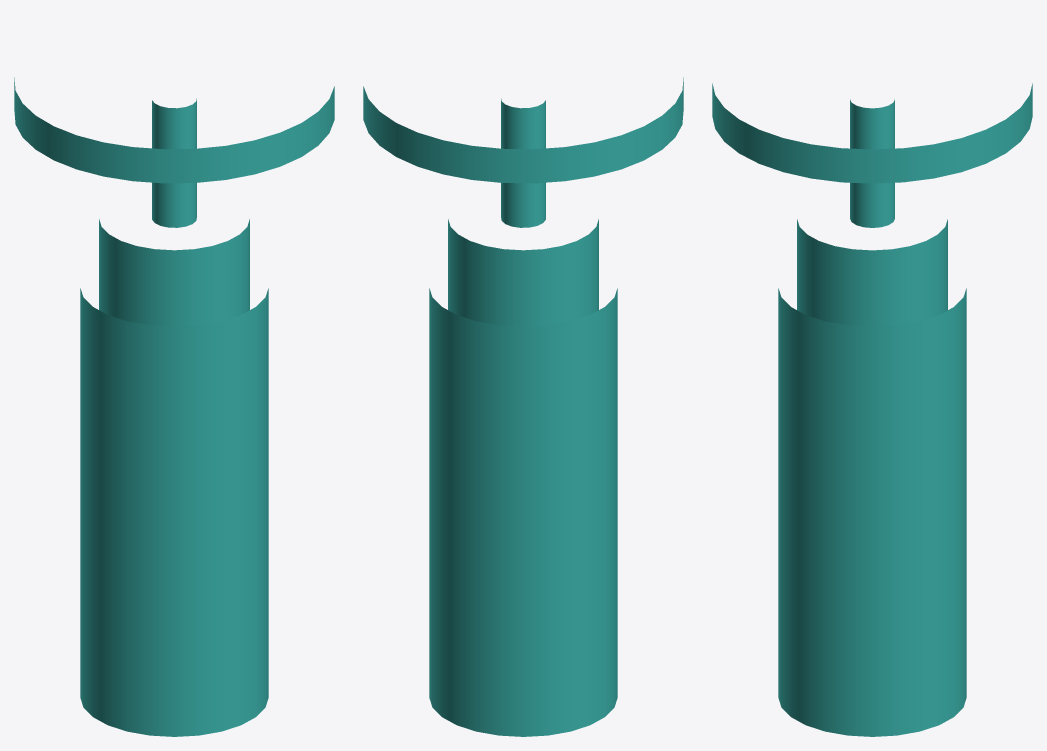
The model's file is industrial_valve.glb.
The picture shows the model from 3 angles, left to right: view 1: azimuth 30°, elevation 25°; view 2: azimuth 150°, elevation 25°; view 3: azimuth 270°, elevation 25°; orthographic projection.
Parts seen in each view (by area): view 1: IndustrialValve; view 2: IndustrialValve; view 3: IndustrialValve.
Boxes of the visible parts, x1,y1,x2,y2 form: IndustrialValve: (14,77,334,736); IndustrialValve: (363,77,683,736); IndustrialValve: (712,83,1032,736).
Size of the model in its own units: 1.7 by 3.6 by 1.7.
